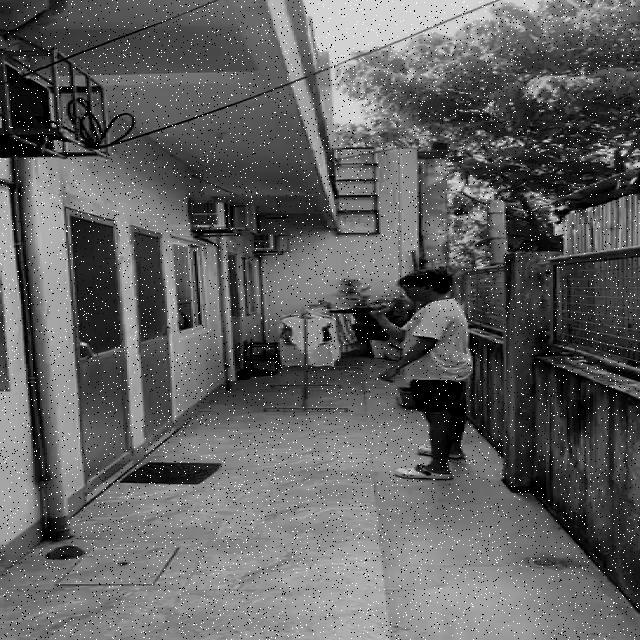knife: (326, 300, 390, 316)
non-violence: (324, 267, 474, 481)
